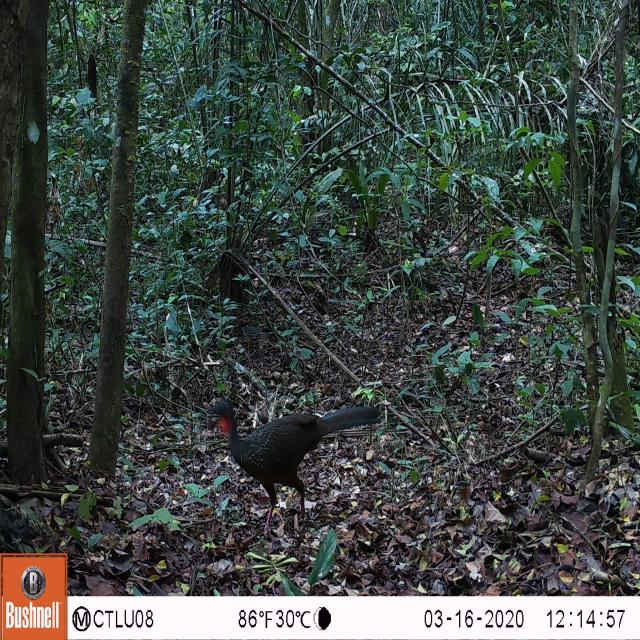Spixs Guan: (198, 387, 389, 536)
